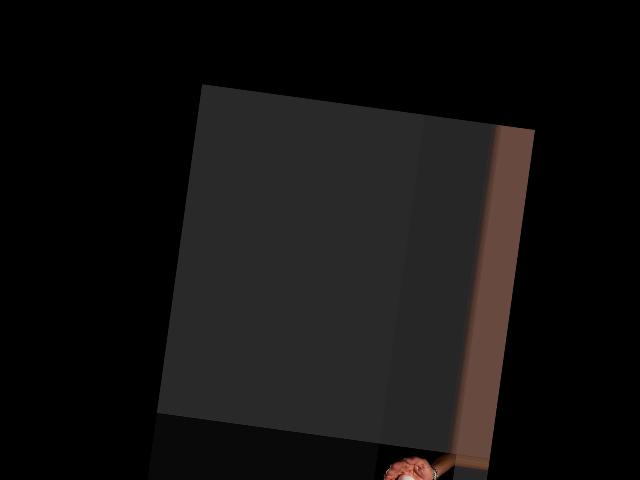egg: (394, 473, 420, 480)
